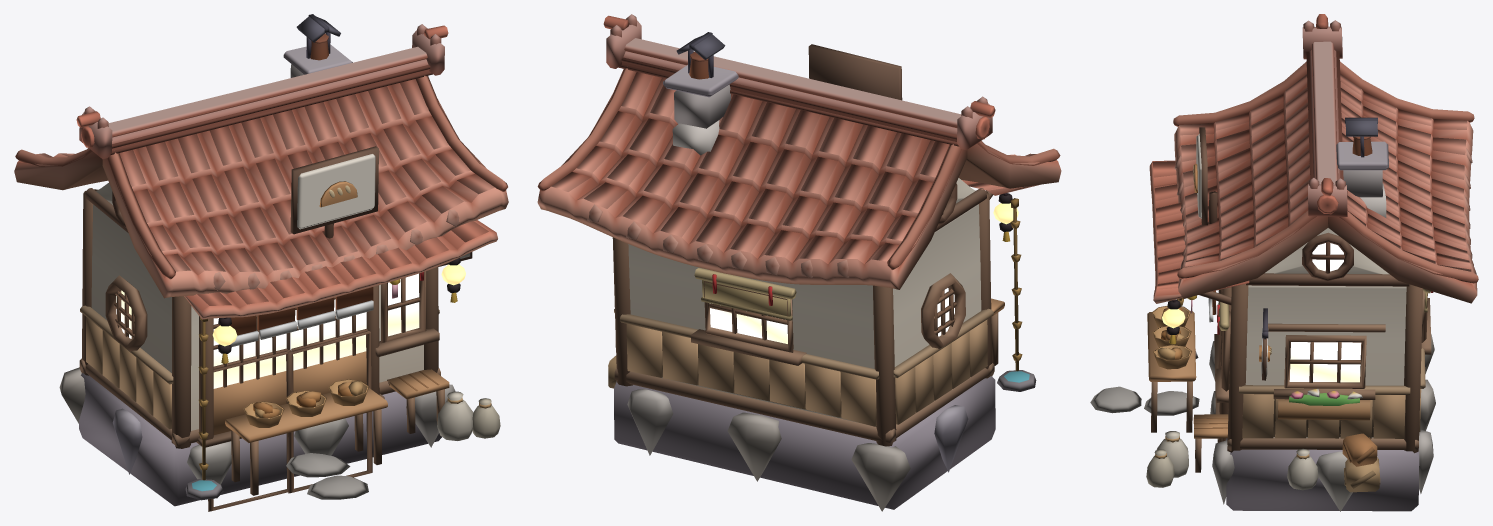
The model's file is shop-2-v0.glb.
3 renders of one model, left to right at view 1: azimuth 30°, elevation 25°; view 2: azimuth 150°, elevation 25°; view 3: azimuth 270°, elevation 25°, orthographic. The views are drawn at different scales.
Parts seen in each view (by area): view 1: shop-2-v0, window_glow; view 2: shop-2-v0, window_glow; view 3: shop-2-v0, window_glow.
Boxes of the visible parts, x1,y1,x2,y2 form: shop-2-v0: (14, 14, 508, 511); window_glow: (116, 264, 465, 388); shop-2-v0: (537, 14, 1061, 511); window_glow: (710, 203, 1018, 343); shop-2-v0: (1090, 14, 1478, 511); window_glow: (1162, 243, 1361, 382).
Size of the model in its own units: 3.46 by 3.52 by 3.29.
